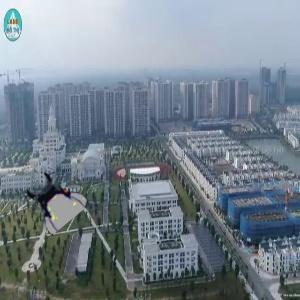drone: (25, 172, 82, 229)
